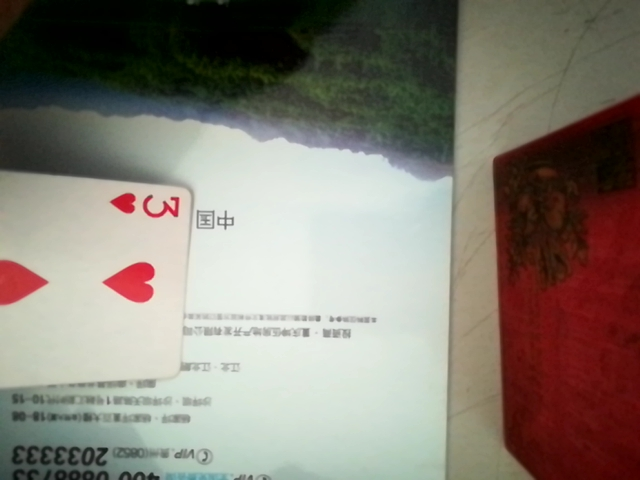hx 3: (0, 161, 193, 386)
